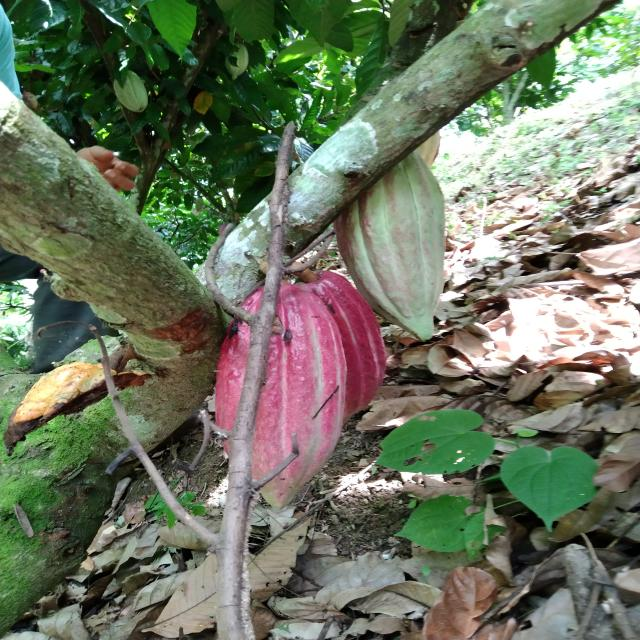Fitoftora: (6, 359, 113, 449)
Sana: (227, 285, 344, 507), (338, 155, 447, 340), (286, 271, 380, 409)
